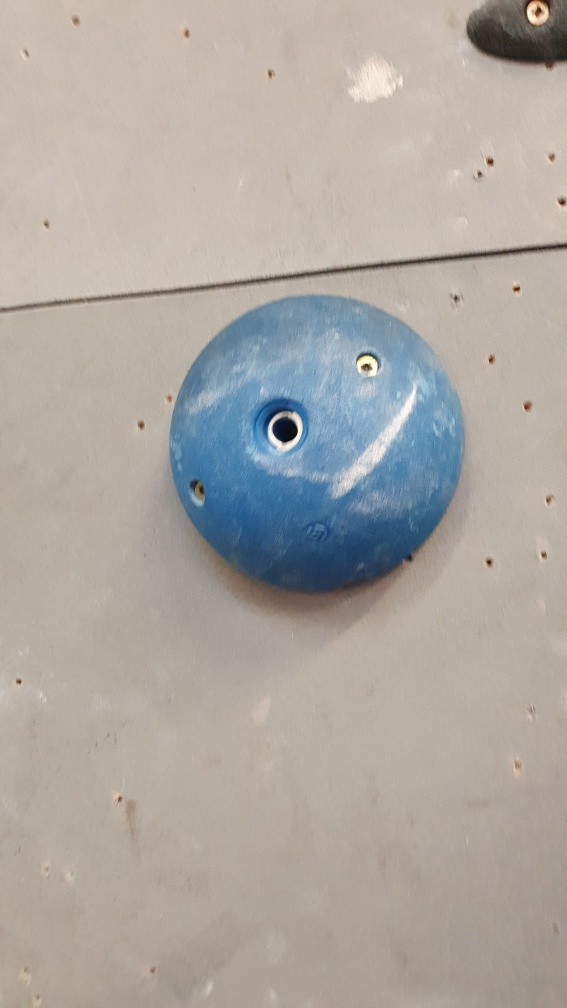Sloper: (166, 289, 474, 598)
